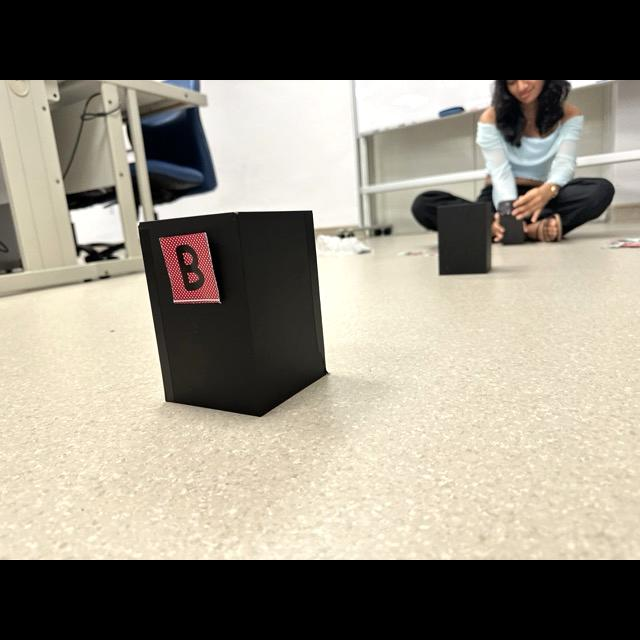B: (175, 244, 204, 290)
